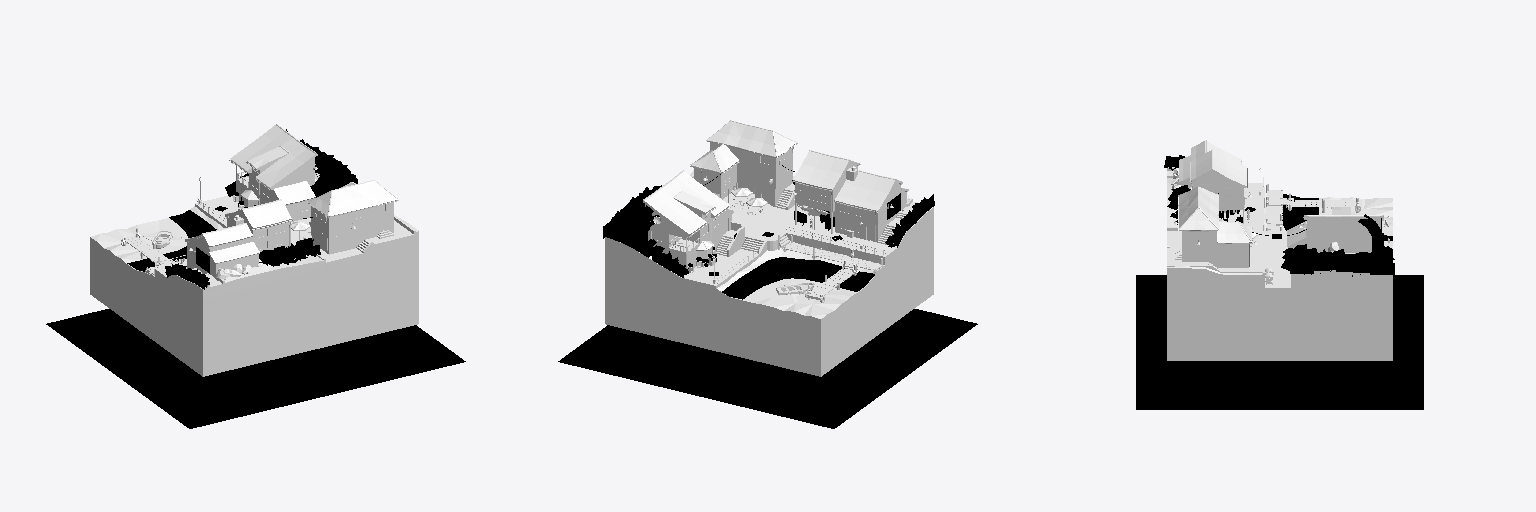
Rendered from Cudillero Bake Final.obj.
3 views of the same model, side by side, from view 1: azimuth 30°, elevation 25°; view 2: azimuth 150°, elevation 25°; view 3: azimuth 270°, elevation 25° (orthographic).
Visible parts, largest first — view 1: Alpha_, Object026, Object028, Object027, Object025, Object023, Object030, Sea, Object024, Object029, Object033, Object031; view 2: Alpha_, Object026, Object027, Object023, Object024, Object030, Object028, Object025, Sea, Object029, Object031, Object033 (+1 smaller); view 3: Alpha_, Object028, Object027, Object026, Object030, Object024, Object023, Object025, Object029, Object033, Sea, Object031.
Part boxes in pixels (x1,y1,x2,y2): Alpha_: (46,129,465,428); Object026: (90,289,363,376); Object028: (90,206,418,335); Object027: (90,231,418,337); Object025: (177,124,418,288); Object023: (185,195,413,277); Object030: (146,180,398,275); Sea: (90,218,187,269); Object024: (155,160,314,286); Object029: (137,204,413,276); Object033: (155,164,415,289); Object031: (122,177,355,275); Alpha_: (558,165,977,428); Object026: (605,235,933,376); Object027: (605,207,933,373); Object023: (688,150,908,272); Object024: (651,171,897,294); Object030: (690,120,882,273); Object028: (605,217,933,368); Object025: (620,170,932,276); Sea: (730,278,865,347); Object029: (708,150,884,285); Object031: (703,175,906,301); Object033: (653,174,917,283); Alpha_: (1136,155,1423,409); Object028: (1167,276,1392,319); Object027: (1167,268,1392,360); Object026: (1264,311,1392,360); Object030: (1178,184,1282,267); Object024: (1182,171,1392,289); Object023: (1179,140,1251,223); Object025: (1167,178,1383,274); Object029: (1167,191,1285,270); Object033: (1167,167,1390,289); Sea: (1319,197,1392,235); Object031: (1174,168,1389,246).
Size of the model in its own units: 1848 by 1110 by 1668.